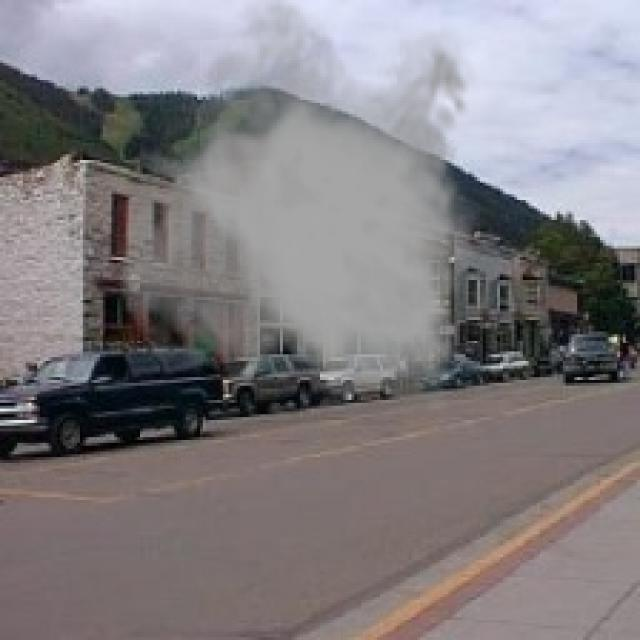smoke: (114, 0, 480, 415)
